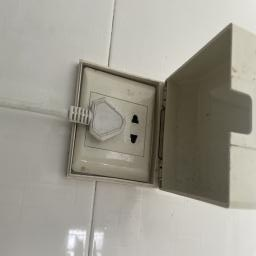outlet: (64, 52, 168, 183)
